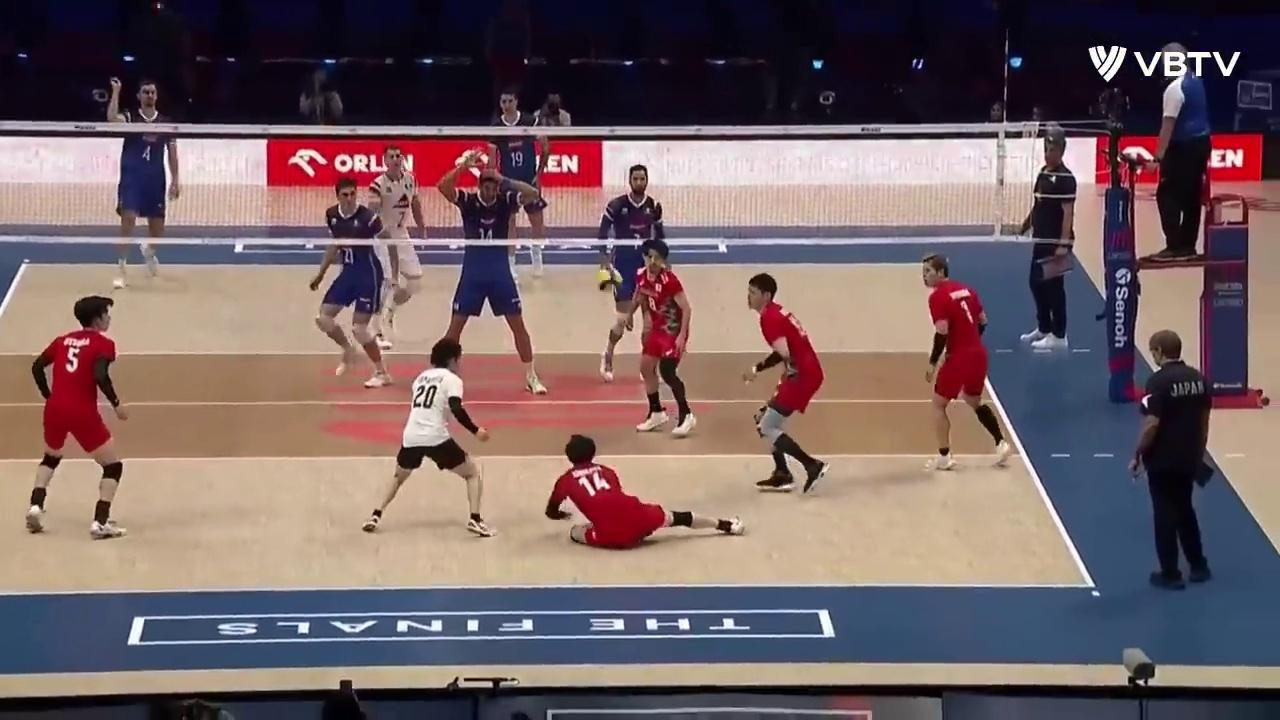ball: (597, 270, 615, 293)
